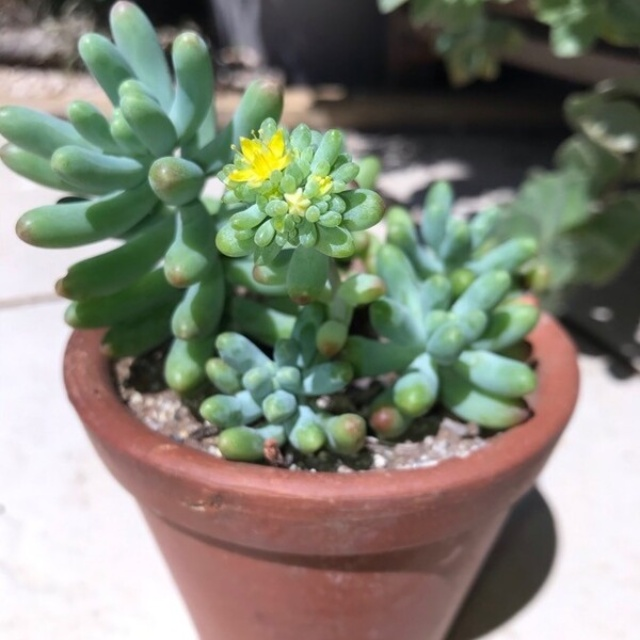obstacle: (23, 21, 589, 633)
